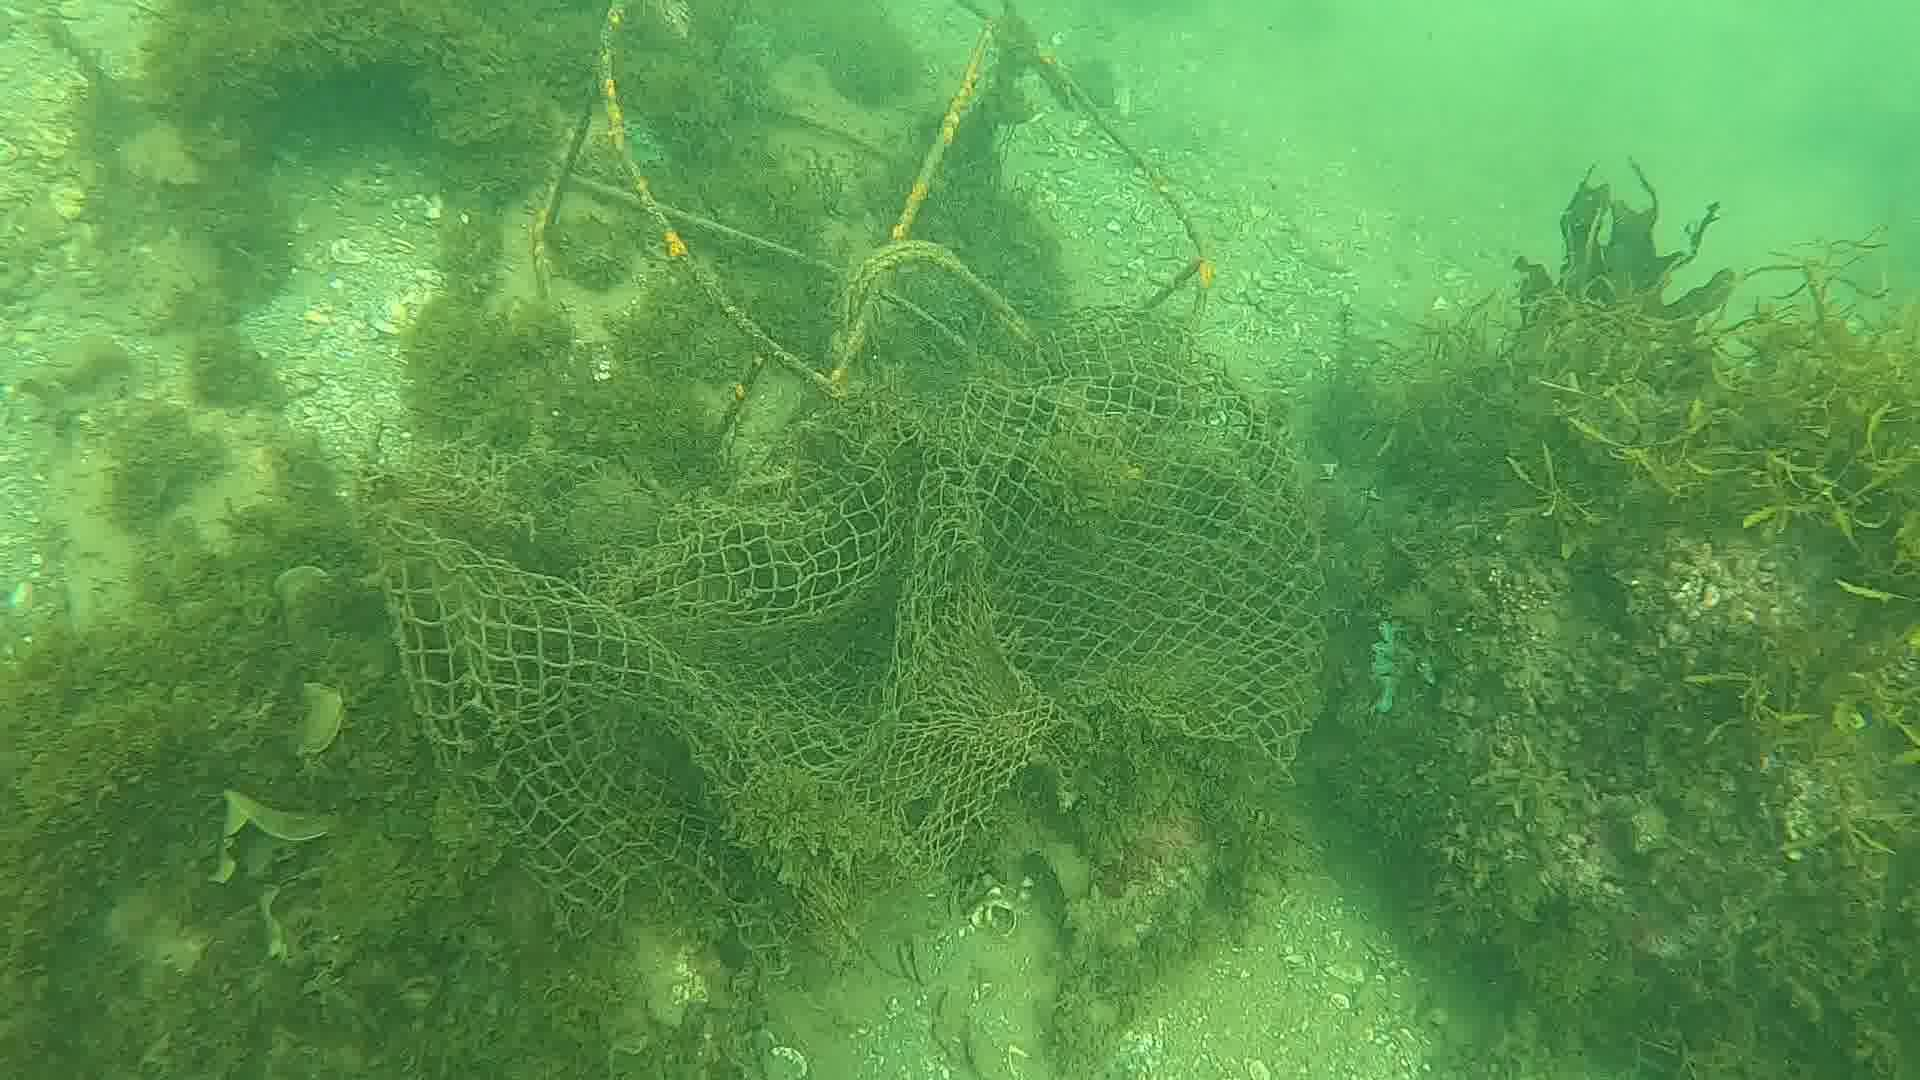bundle of ropes: (837, 235, 1038, 344)
fish net: (372, 302, 1328, 973)
